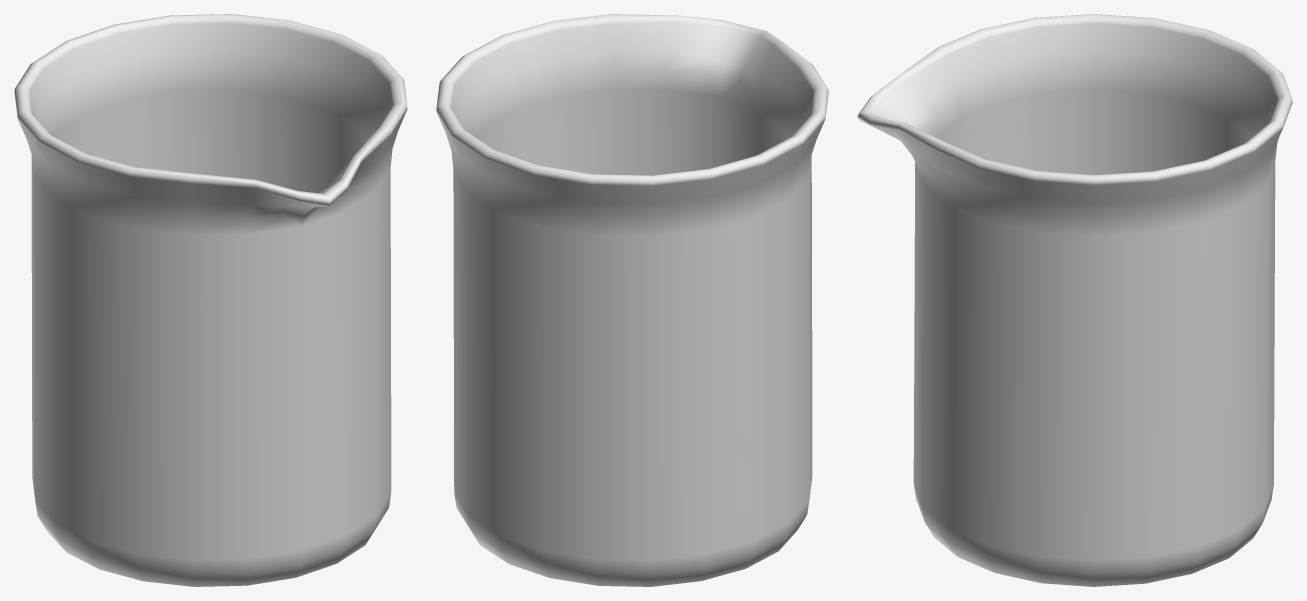
Rendered from 500_Beaker.glb.
The picture shows the model from 3 angles, left to right: view 1: azimuth 30°, elevation 25°; view 2: azimuth 150°, elevation 25°; view 3: azimuth 270°, elevation 25°; orthographic projection.
Visible parts, largest first — view 1: Bequer_500mL; view 2: Bequer_500mL; view 3: Bequer_500mL.
Part boxes in pixels (left/top/right/bottom): Bequer_500mL: left=14, top=14, right=407, bottom=586; Bequer_500mL: left=436, top=14, right=828, bottom=586; Bequer_500mL: left=857, top=14, right=1292, bottom=586.
Bounding box in the file's own units: 0.1247 × 0.1496 × 0.1376.
Materials: 1 (1 with a texture image).
